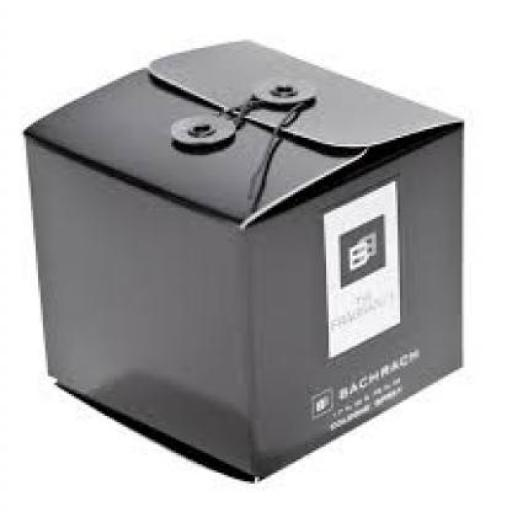cardboard: (22, 39, 460, 479)
